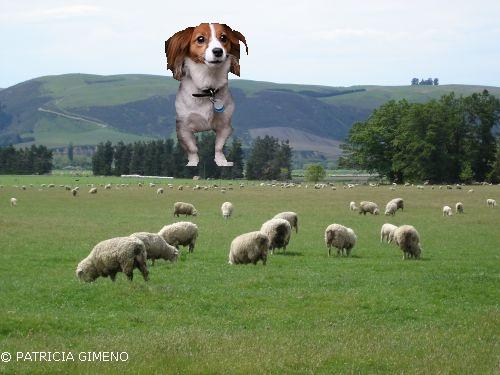tampered: (166, 24, 248, 166)
